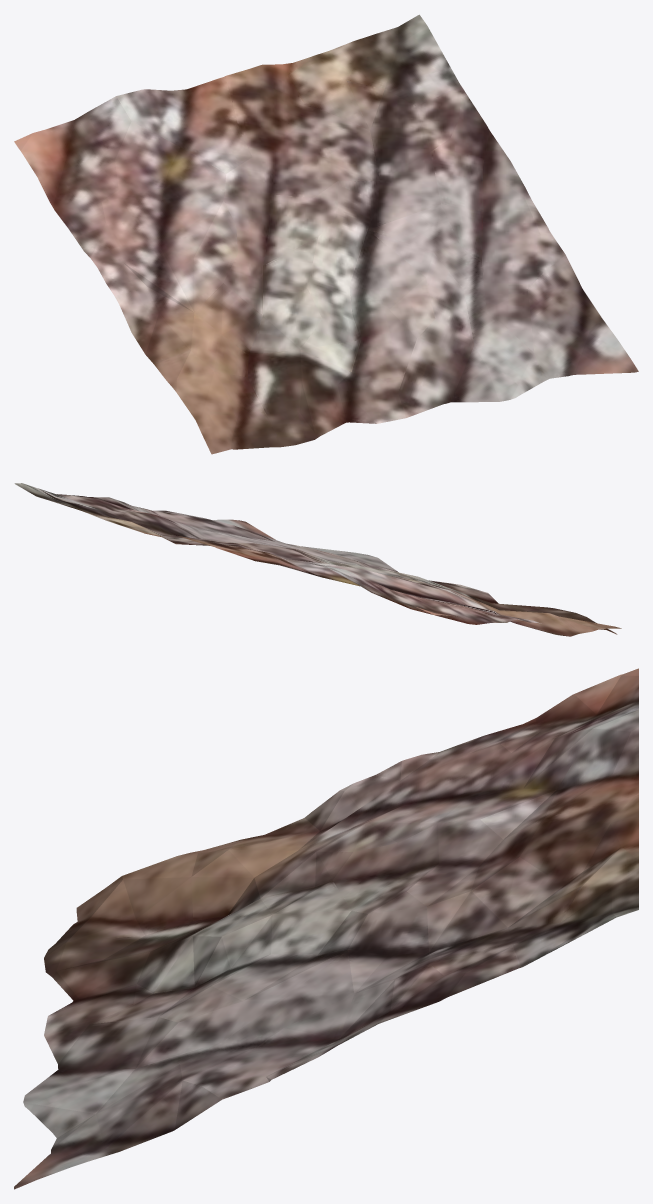
The picture shows the model from 3 angles, top to bottom: view 1: azimuth 30°, elevation 25°; view 2: azimuth 150°, elevation 25°; view 3: azimuth 270°, elevation 25°; orthographic projection. The views are drawn at different scales.
Size of the model in its own units: 0.8374 by 0.3878 by 0.7852.
Materials: 2 (2 with a texture image).
